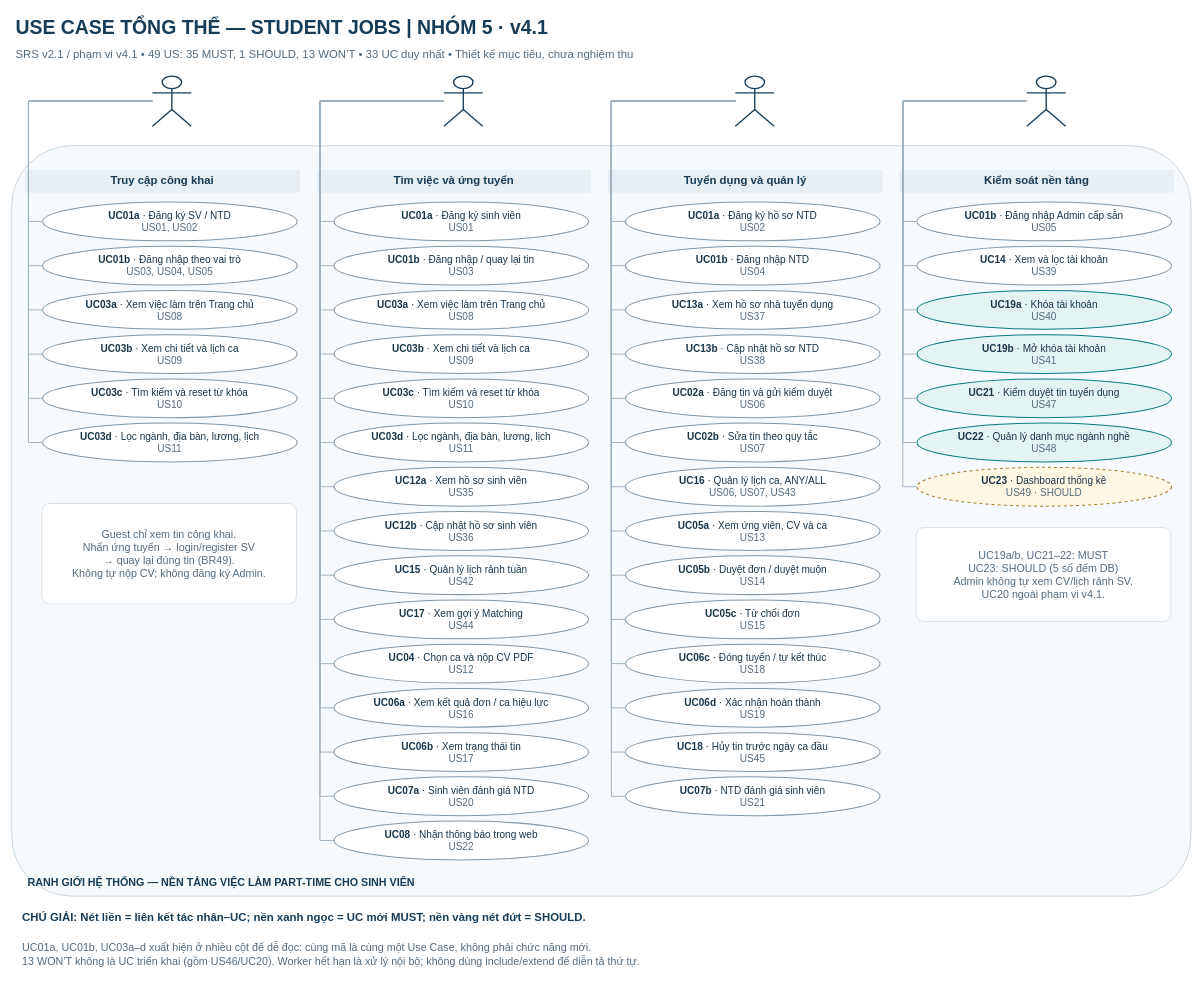
Some shapes in this 1203 by 988 pixel diagram are drawn without their labels. The box of each missing label's shape, as (x1, y1, x2, y2) in pixels:
Khách (Guest): (151, 75, 192, 127)
Nhà tuyển dụng: (734, 75, 775, 127)
Quản trị viên: (1026, 75, 1066, 127)
Sinh viên: (443, 75, 483, 127)
